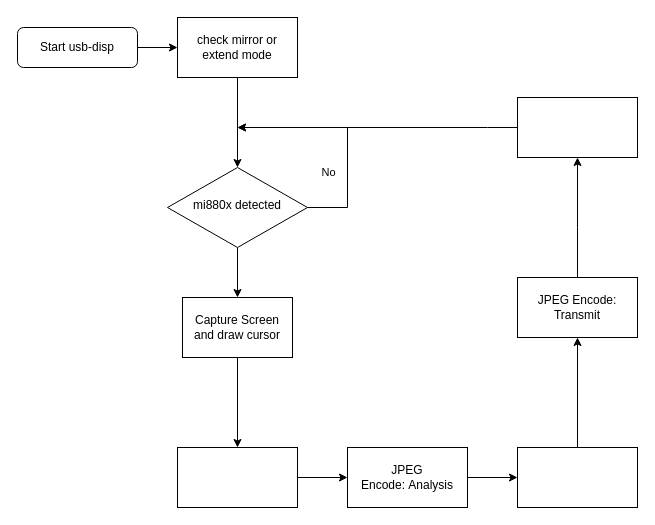
Some shapes in this 655 by 525 pixel diagram are drawn without their labels. The shapes that lost their labels are listed below. From the top down, each one's centre as x and y in pixels, then its label:
At point 577,127: "Transmit data to mi880x by libusb".
At point 237,477: "JPEG Encode: StartEncode".
At point 577,477: "JPEG Encode: Compress".
